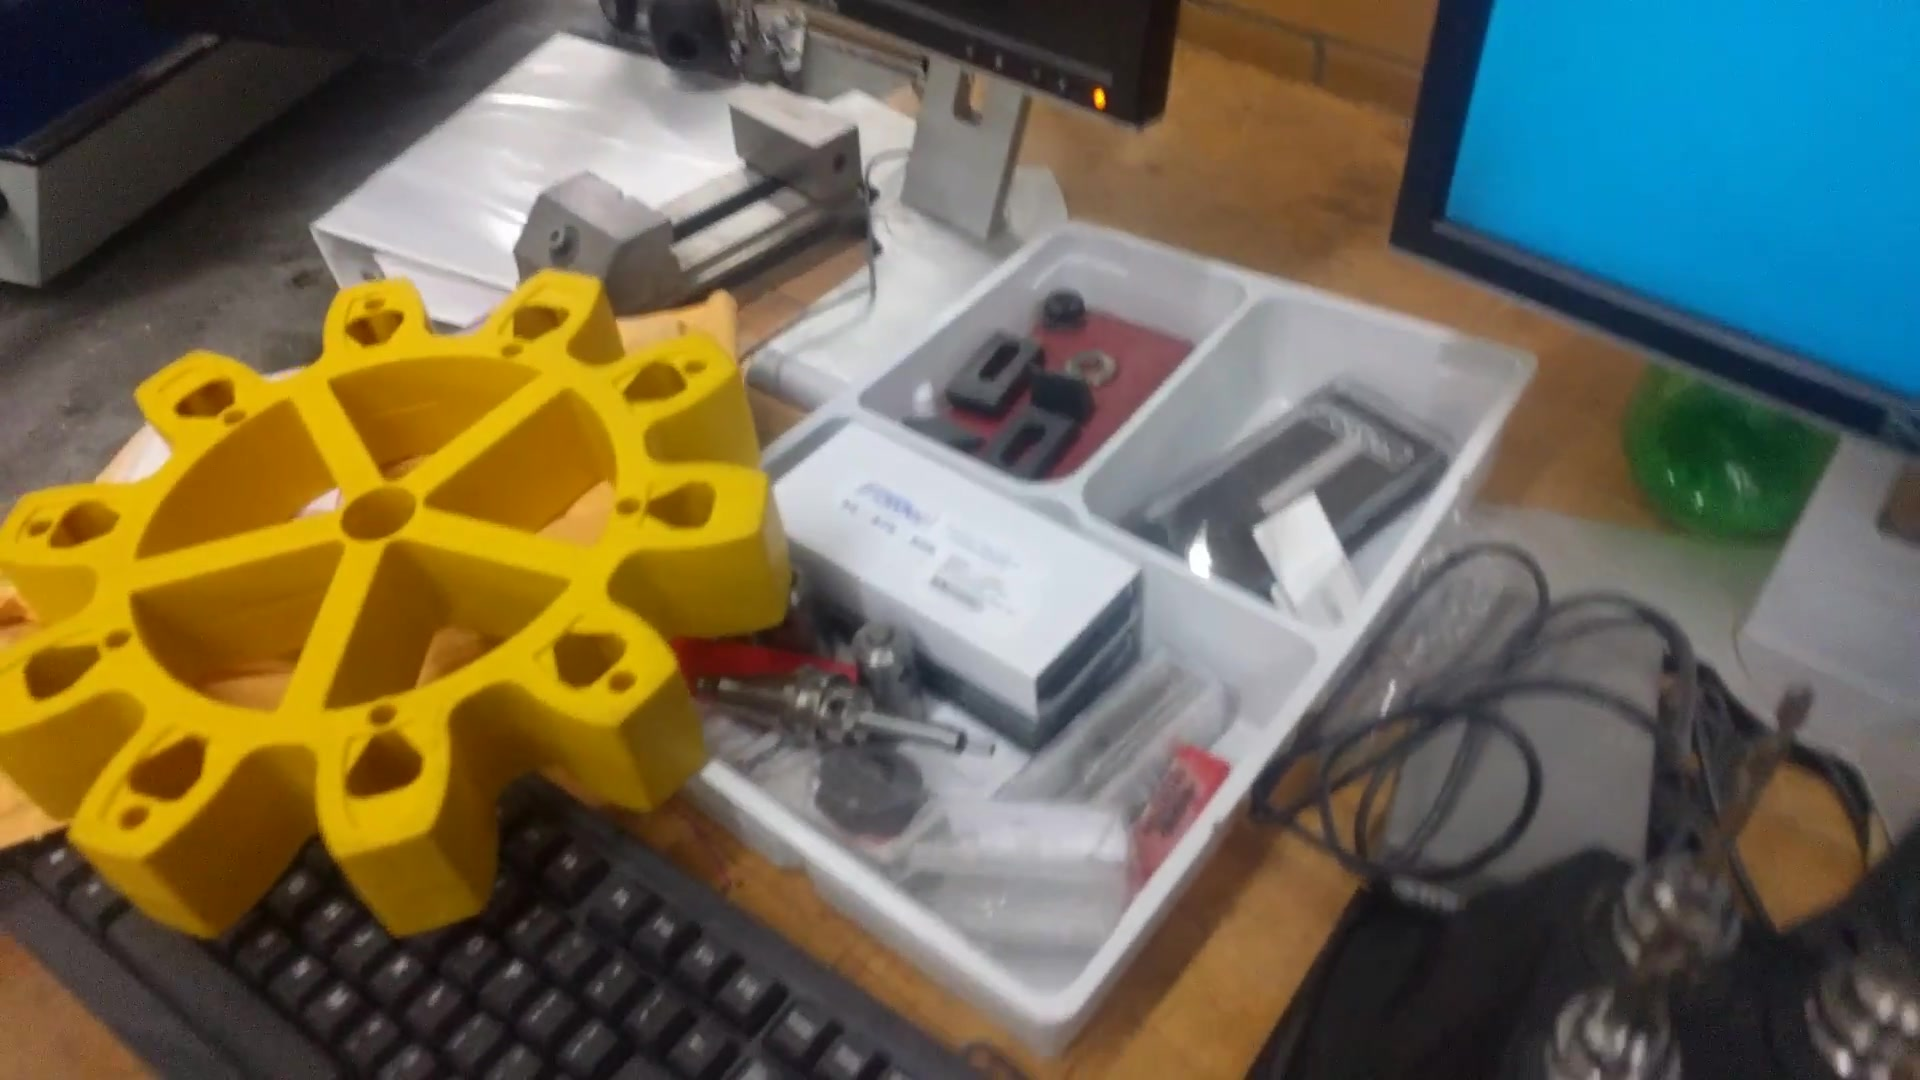gear: (7, 272, 885, 932)
